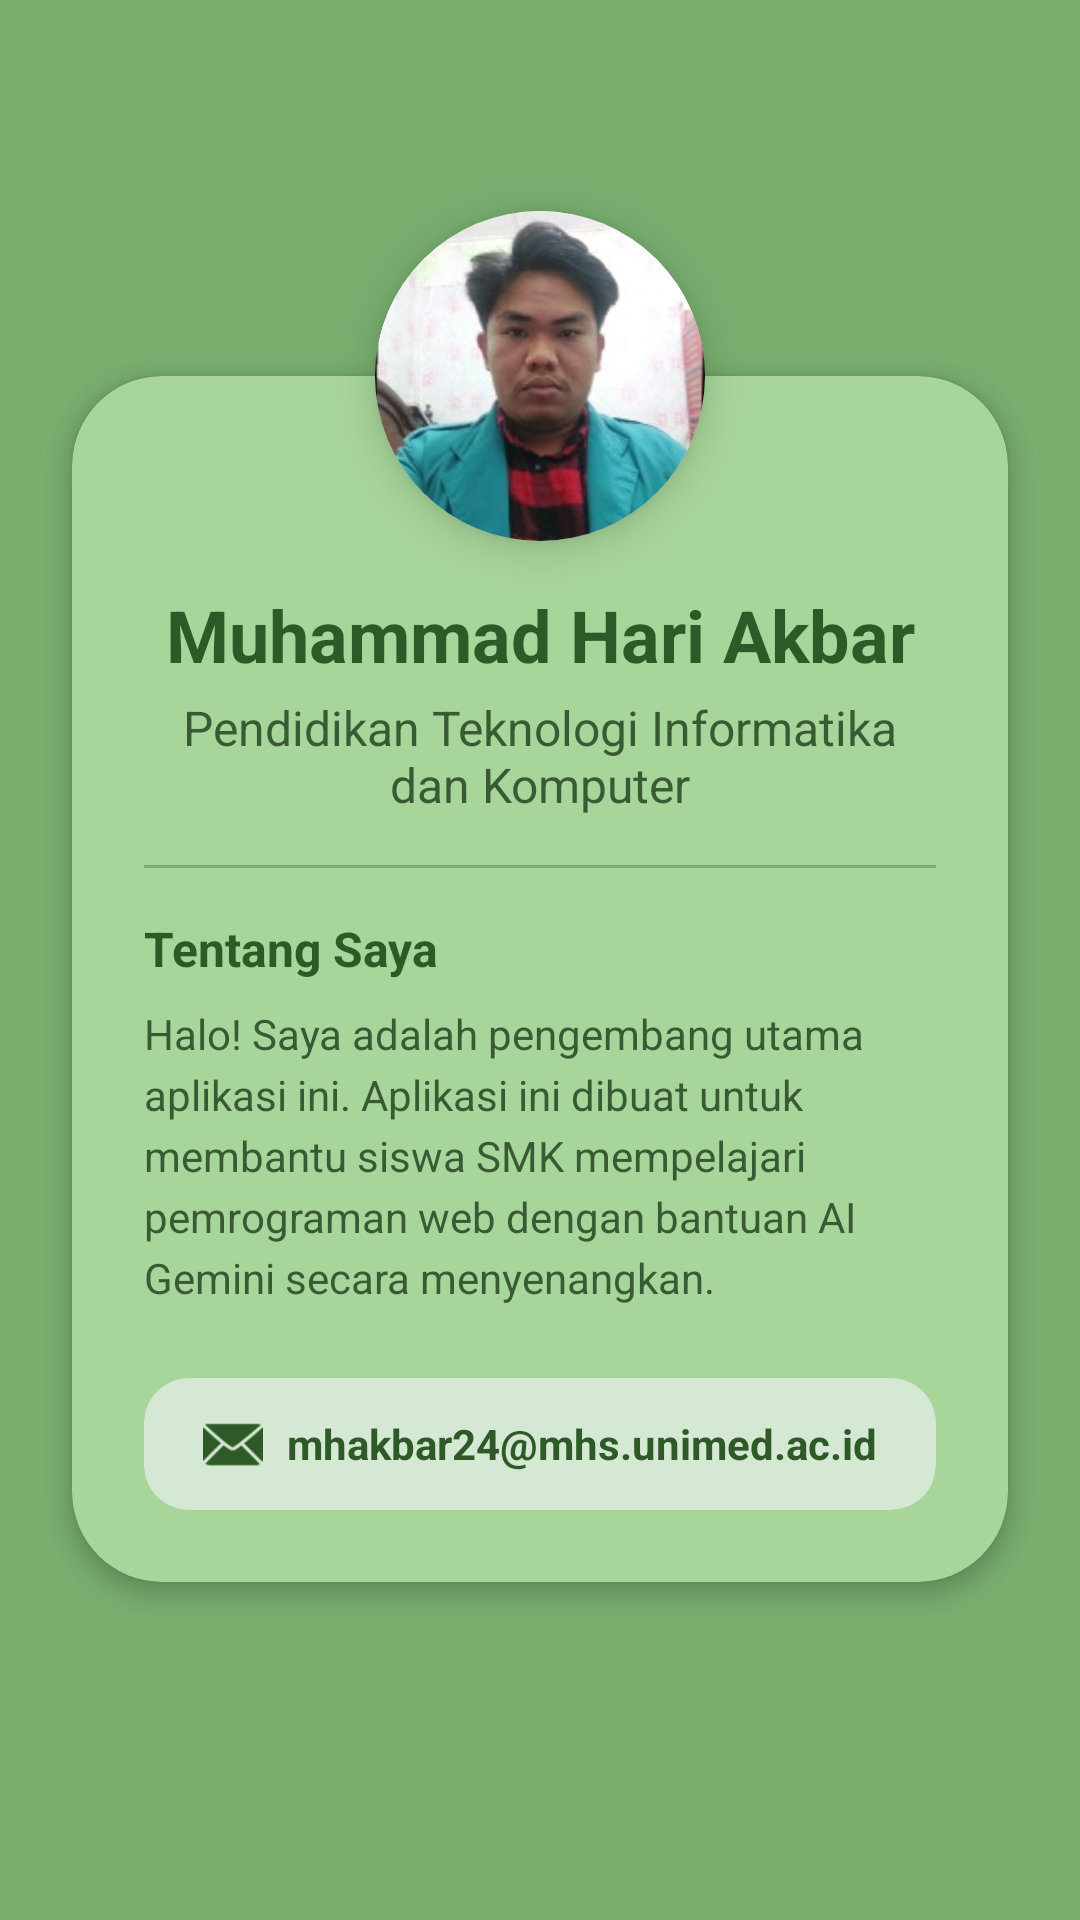

Named icons in this screenshot (1080px x 1920px) and their centers, (x,y):
email: (233,1444)
fotoganteng: (540,376)
